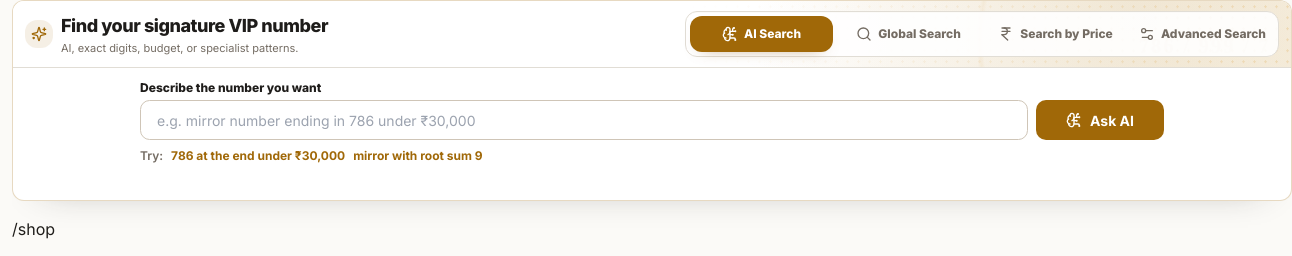
SearchWorkbench › bypasses AI for pure-digit input and performs an Anywhere search
Type "9999" into the field labelled "Describe the number you want" at (584, 120), box [140, 100, 1028, 140]
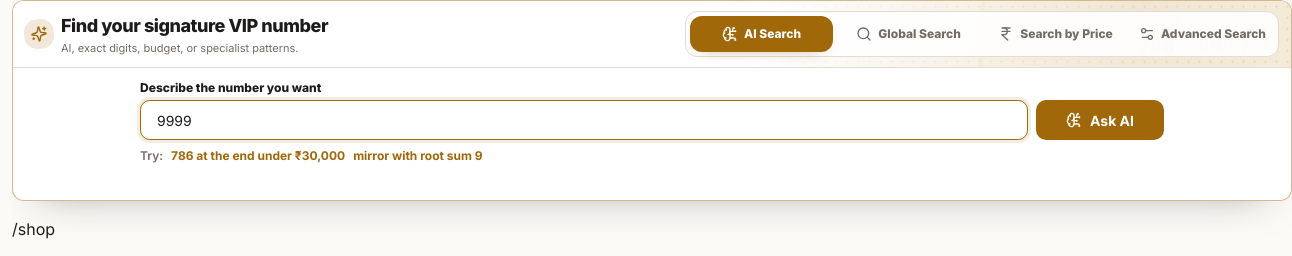
Click the button "Ask AI" at (1100, 120), box [1036, 100, 1164, 140]
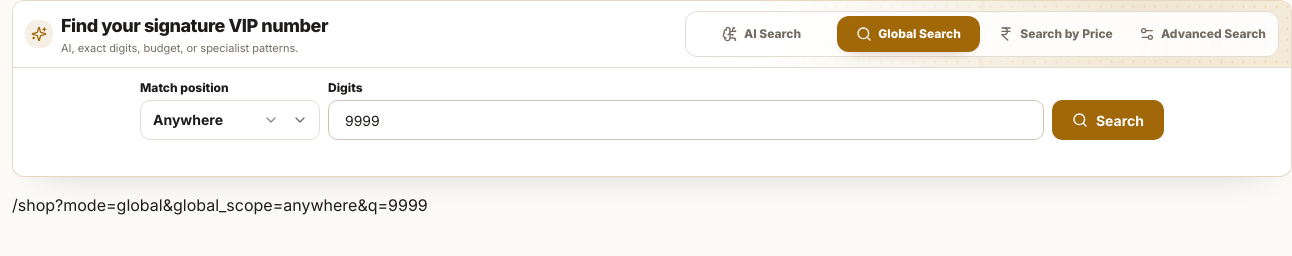
Expected: the text with test id "location" reads "/shop?mode=global&global_scope=anywhere&q=9999", [12, 195, 428, 215]
